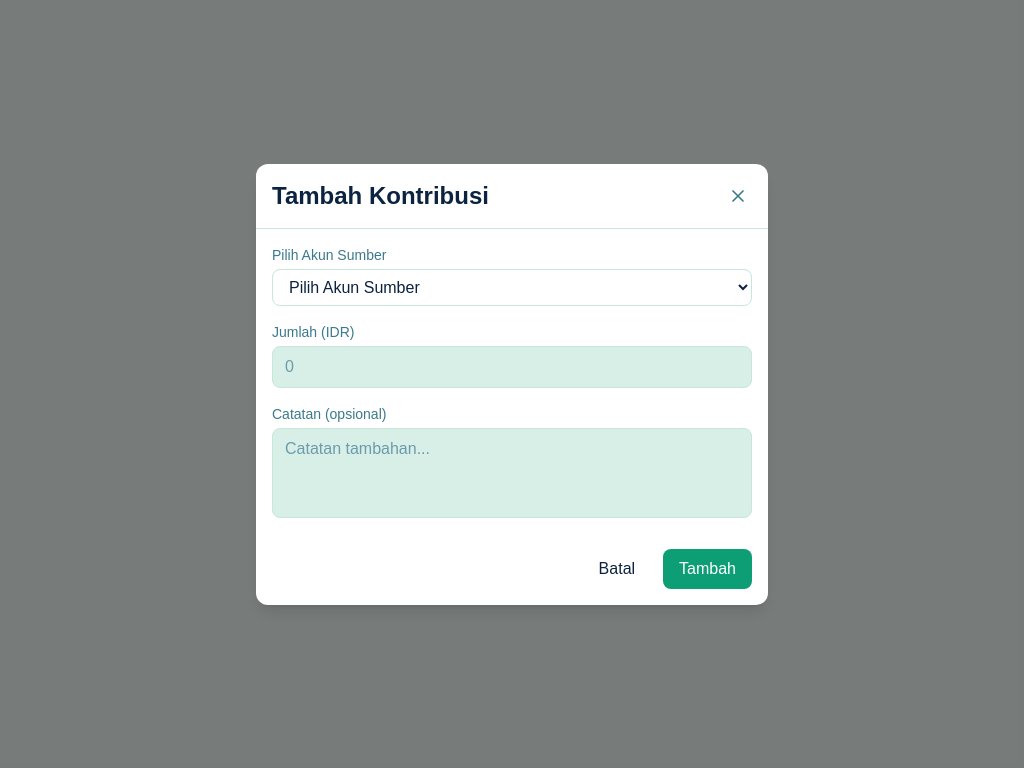
Test: ContributionForm › shows error when no account selected in add mode
The image size is (1024, 768).
In the number field labelled "Jumlah (IDR)": (512, 366) left=272, top=346, right=752, bottom=388, type "100000"
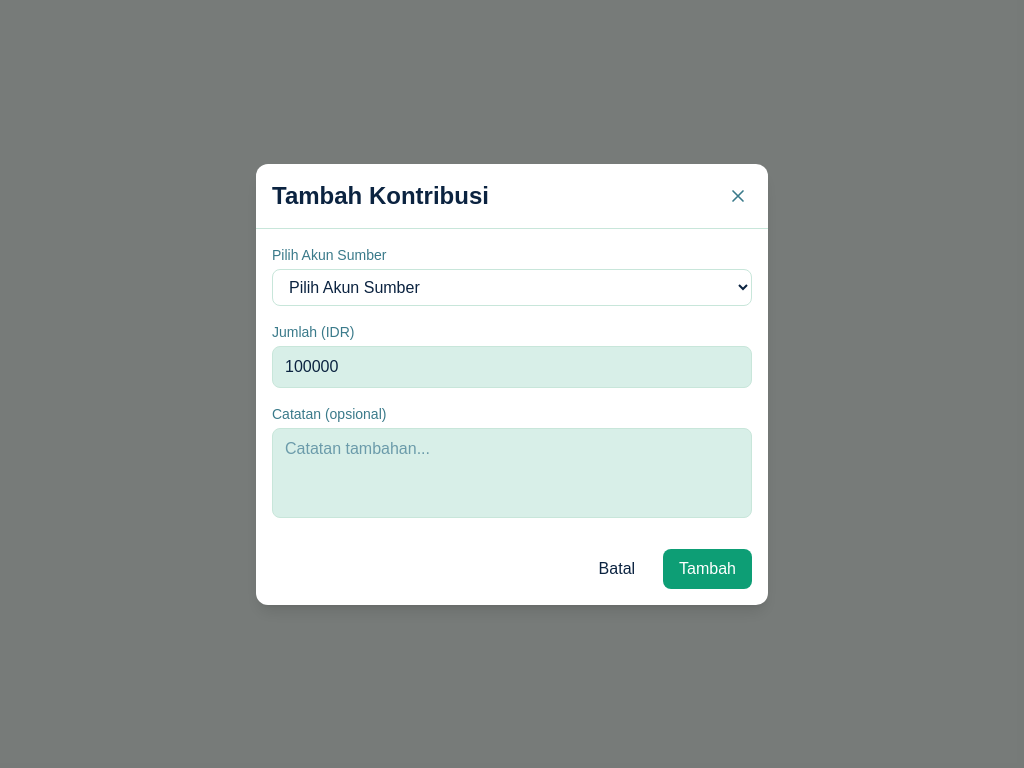
Click the button "Tambah": click(708, 568) left=663, top=548, right=752, bottom=588
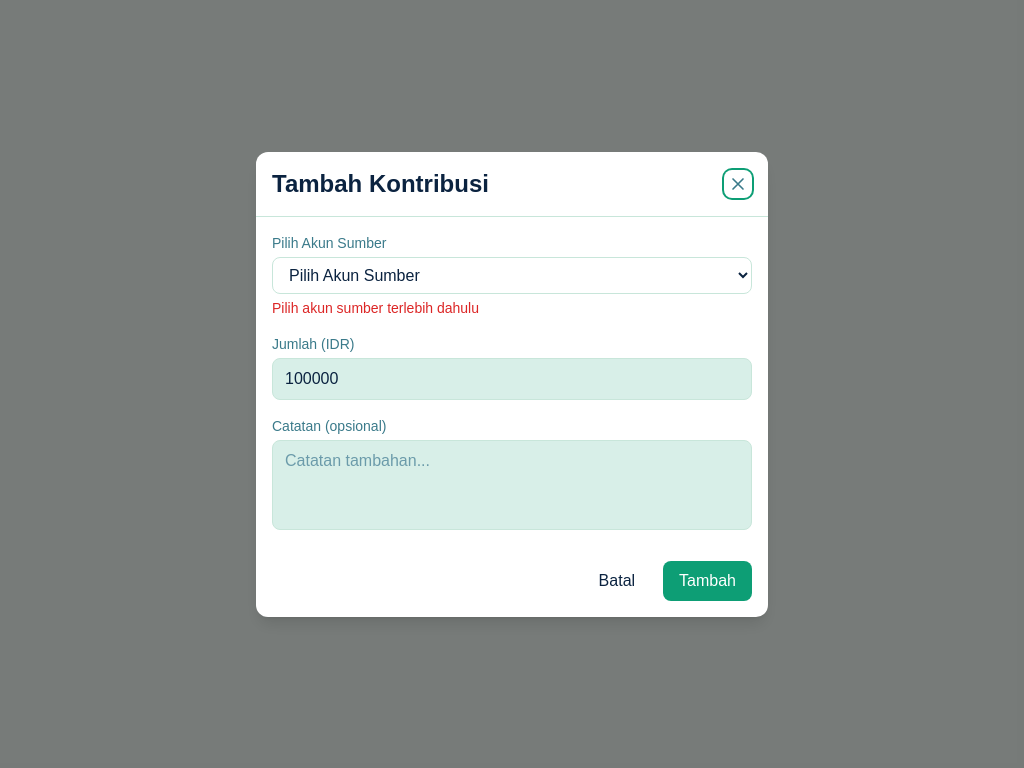
Result: the text "Pilih akun sumber terlebih dahulu" is shown at left=272, top=300, right=479, bottom=316
